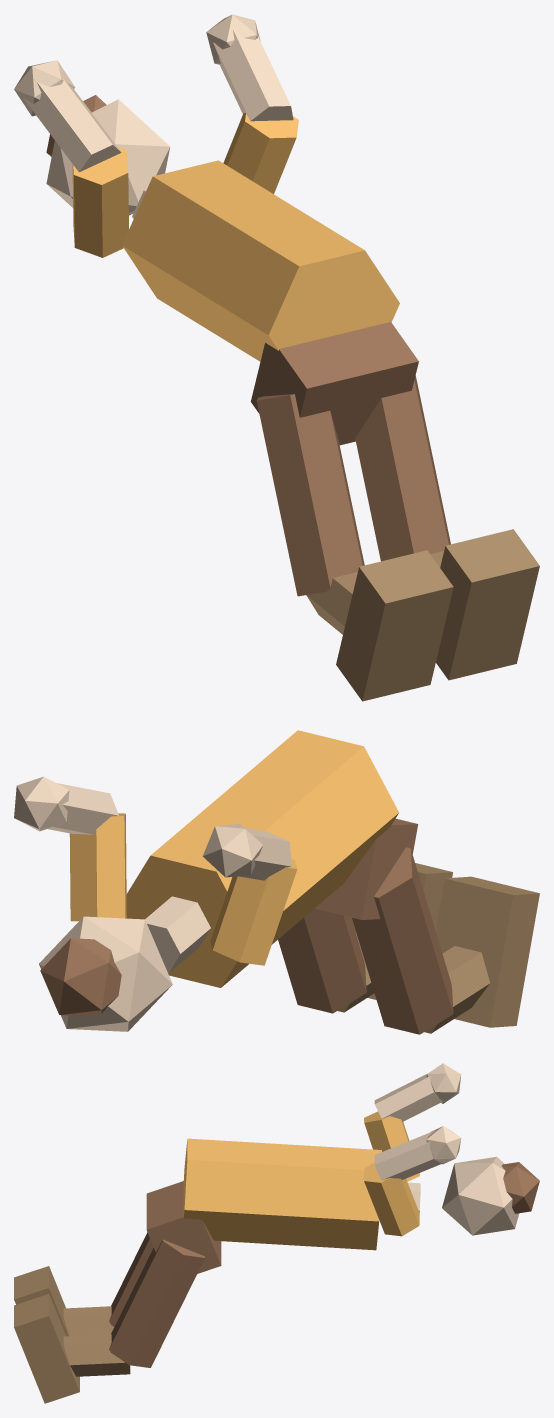
The model's file is pose_dodge_roll_15.glb.
3 renders of one model, top to bottom at view 1: azimuth 30°, elevation 25°; view 2: azimuth 150°, elevation 25°; view 3: azimuth 270°, elevation 25°, orthographic. The views are drawn at different scales.
Visible parts, largest first — view 1: pose; view 2: pose; view 3: pose.
Part boxes in pixels (x1=…): pose: x1=14, y1=14, x2=539, y2=701; pose: x1=14, y1=730, x2=539, y2=1034; pose: x1=14, y1=1063, x2=539, y2=1403.
Size of the model in its own units: 0.4876 by 0.8359 by 1.41.
